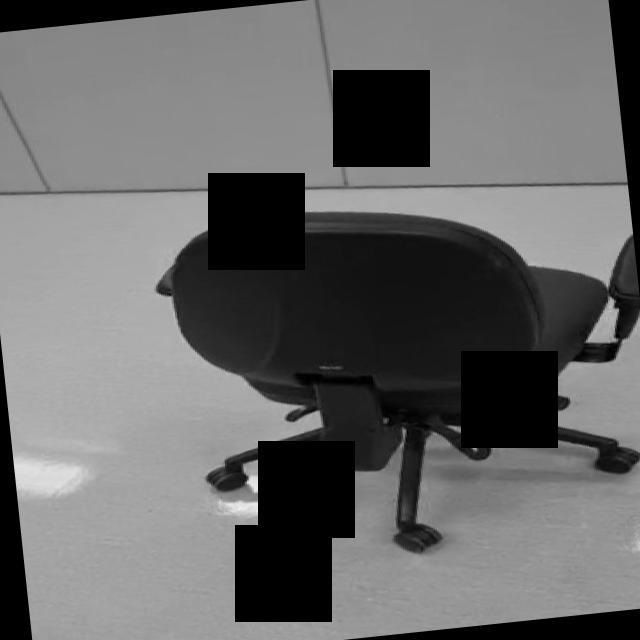chair: (149, 175, 640, 575)
